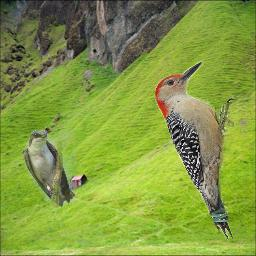Swallow: (24, 130, 76, 208)
Woodpecker: (155, 59, 234, 243)
